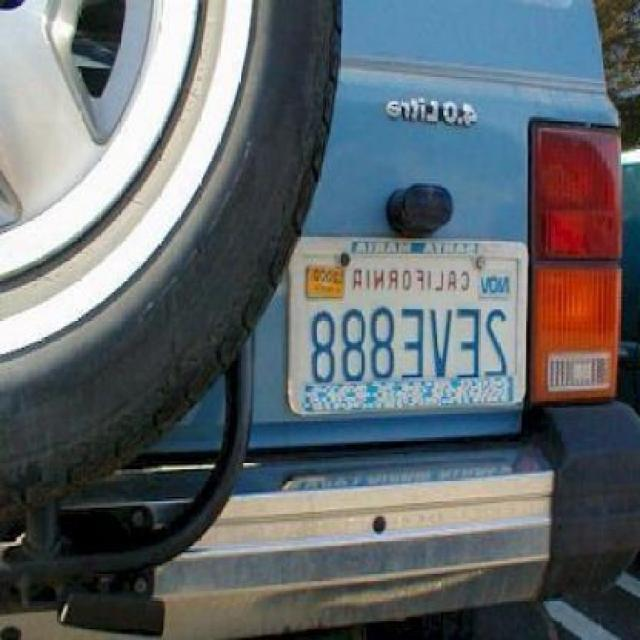LicensePlate: (305, 250, 511, 399)
